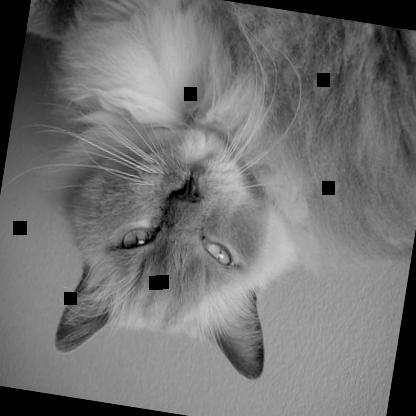cat: (5, 0, 415, 406)
